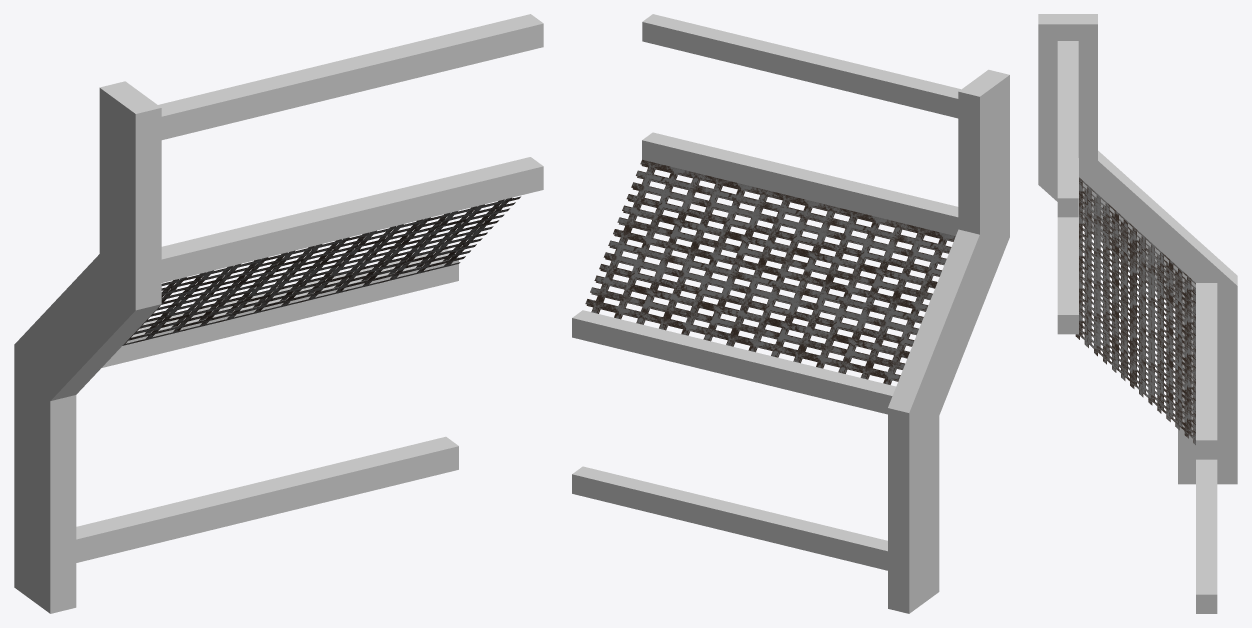
File: fence_1m_01.fbx
3 renders of one model, left to right at view 1: azimuth 30°, elevation 25°; view 2: azimuth 150°, elevation 25°; view 3: azimuth 270°, elevation 25°, orthographic. The views are drawn at different scales.
Visible parts, largest first — view 1: Cube.125, Cube.110, Cube.114, Cube.112, Cube.123, Cube.113, Cube.121; view 2: Cube.121, Cube.125, Cube.113, Cube.110, Cube.114, Cube.112, Cube.123; view 3: Cube.125, Cube.121, Cube.123, Cube.113, Cube.110, Cube.114, Cube.112.
Boxes of the visible parts, box(x1,y1,x2,y2) form: Cube.125: box(14, 81, 161, 613); Cube.110: box(158, 14, 543, 139); Cube.114: box(76, 436, 458, 562); Cube.112: box(161, 157, 543, 282); Cube.123: box(122, 196, 520, 345); Cube.113: box(102, 249, 458, 367); Cube.121: box(136, 198, 513, 334); Cube.121: box(585, 159, 955, 384); Cube.125: box(888, 69, 1009, 613); Cube.113: box(572, 310, 895, 414); Cube.110: box(642, 14, 960, 118); Cube.114: box(572, 466, 887, 570); Cube.112: box(642, 132, 958, 235); Cube.123: box(586, 164, 953, 384); Cube.125: box(1038, 14, 1237, 484); Cube.121: box(1079, 177, 1195, 435); Cube.123: box(1075, 186, 1195, 444); Cube.113: box(1196, 283, 1217, 459); Cube.110: box(1057, 41, 1078, 217); Cube.114: box(1196, 459, 1217, 613); Cube.112: box(1057, 158, 1078, 334).
Size of the model in its own units: 1032 by 1321 by 518.
